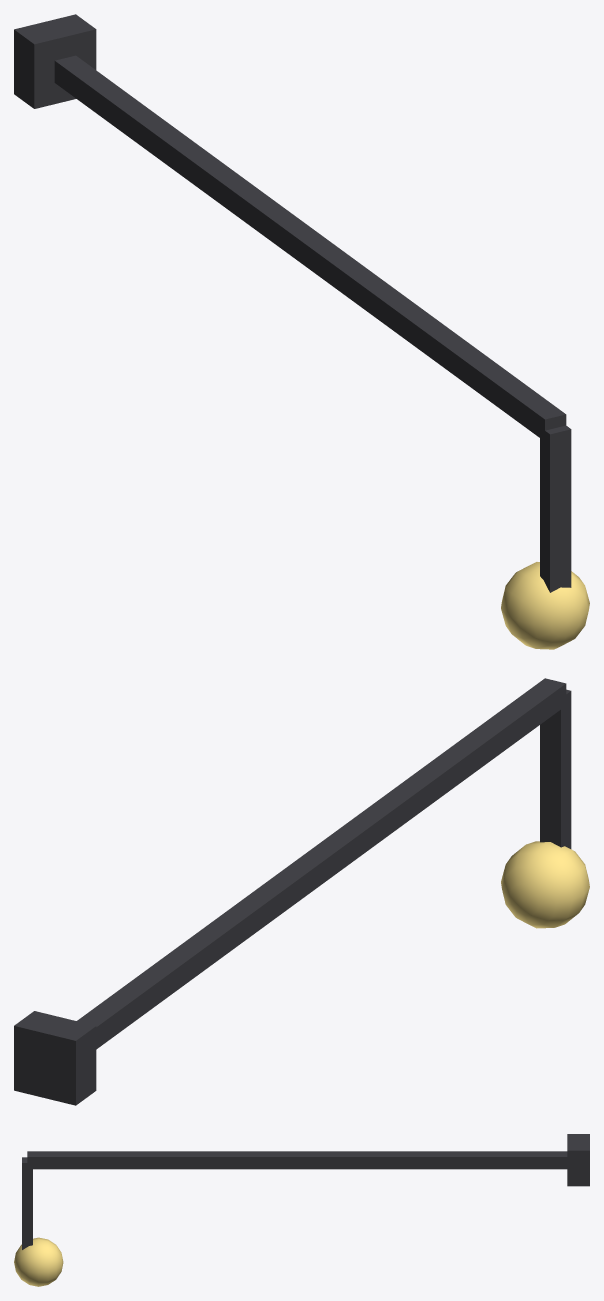
The model's file is farola.obj.
The picture shows the model from 3 angles, top to bottom: view 1: azimuth 30°, elevation 25°; view 2: azimuth 150°, elevation 25°; view 3: azimuth 270°, elevation 25°; orthographic projection. The views are drawn at different scales.
Parts seen in each view (by area): view 1: farola_metal, farola_luz_farola; view 2: farola_metal, farola_luz_farola; view 3: farola_metal, farola_luz_farola.
Part boxes in pixels (box(x1,y1,x2,y2)): farola_metal: box(14, 14, 571, 592); farola_luz_farola: box(501, 562, 589, 649); farola_metal: box(14, 678, 571, 1105); farola_luz_farola: box(501, 841, 589, 928); farola_metal: box(22, 1134, 589, 1249); farola_luz_farola: box(14, 1237, 63, 1286).
Bounding box in the file's own units: 0.44 × 1.4 × 5.12.
